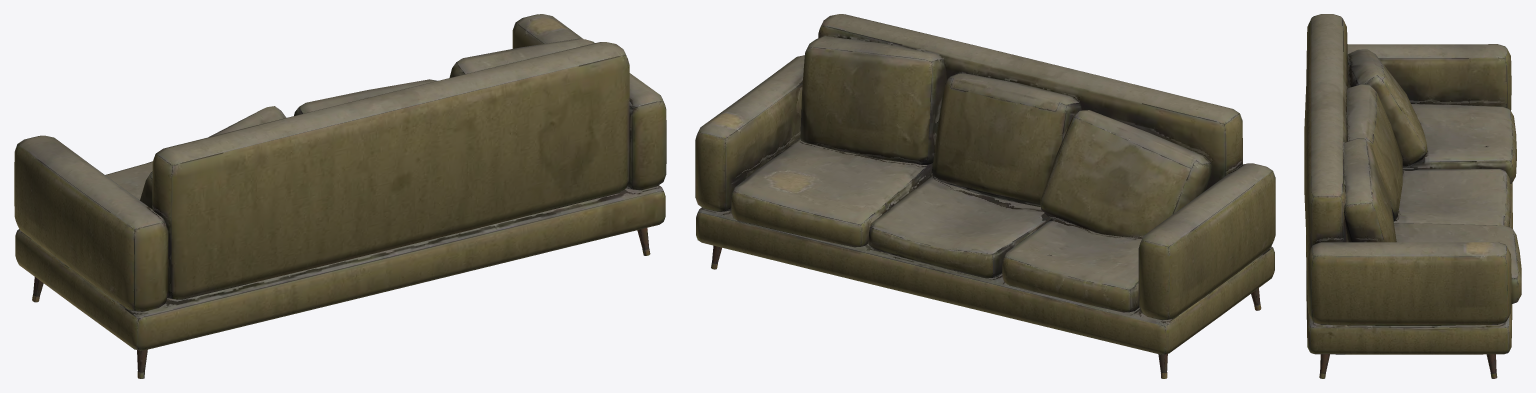
Rendered from furniture_couch.glb.
3 views of the same model, side by side, from view 1: azimuth 30°, elevation 25°; view 2: azimuth 150°, elevation 25°; view 3: azimuth 270°, elevation 25° (orthographic). The views are drawn at different scales.
Visible parts, largest first — view 1: furniture_couch; view 2: furniture_couch; view 3: furniture_couch.
Boxes of the visible parts, x1,y1,x2,y2 form: furniture_couch: (14,14,666,378); furniture_couch: (695,14,1275,378); furniture_couch: (1304,14,1521,378).
Bounding box in the file's own units: 2.21 × 0.8467 × 0.9372.
1 material, 1 textured.
